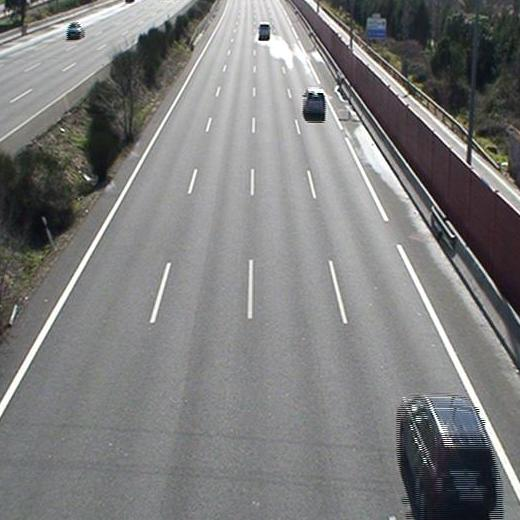car: (396, 392, 499, 513), (302, 89, 327, 119), (258, 23, 271, 39)
